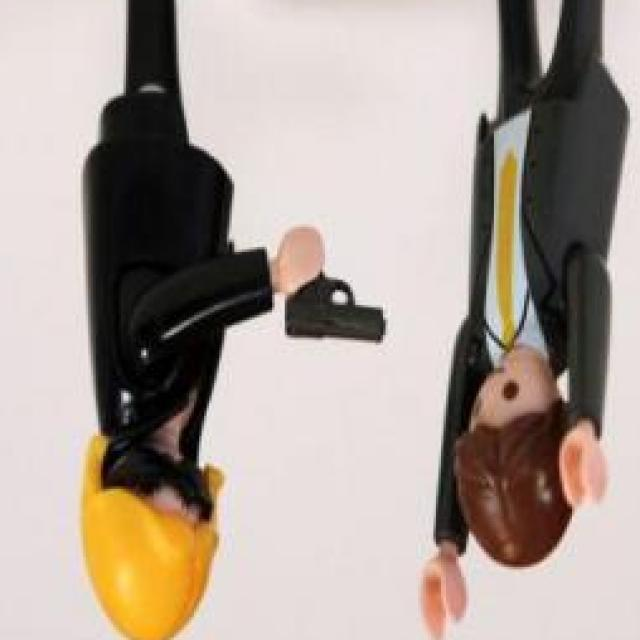pistol: (282, 219, 388, 350)
